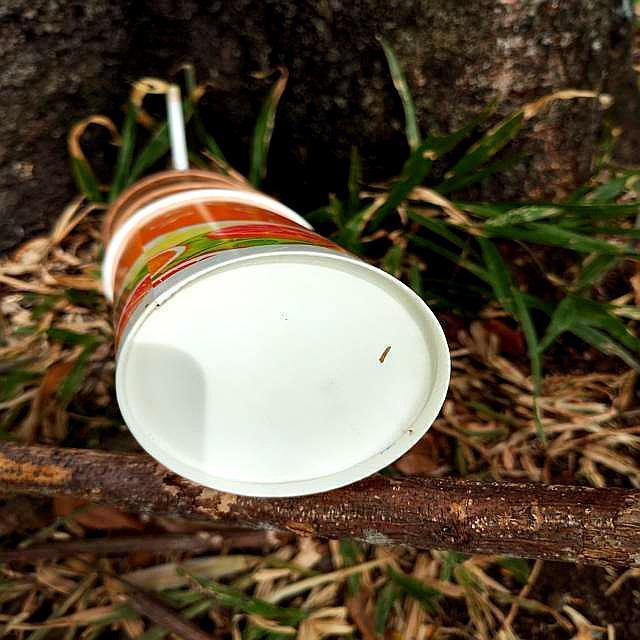Biodegradable: (107, 167, 455, 501)
